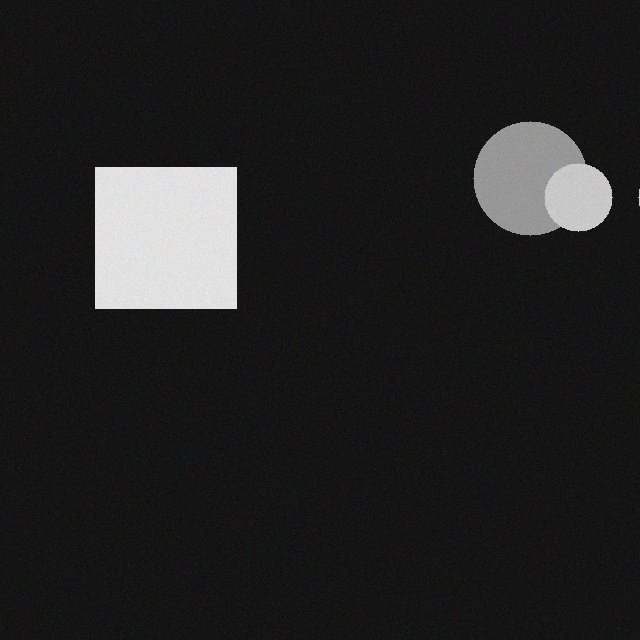circle: (487, 117, 601, 231), (558, 159, 626, 227)
square: (109, 163, 250, 304)
